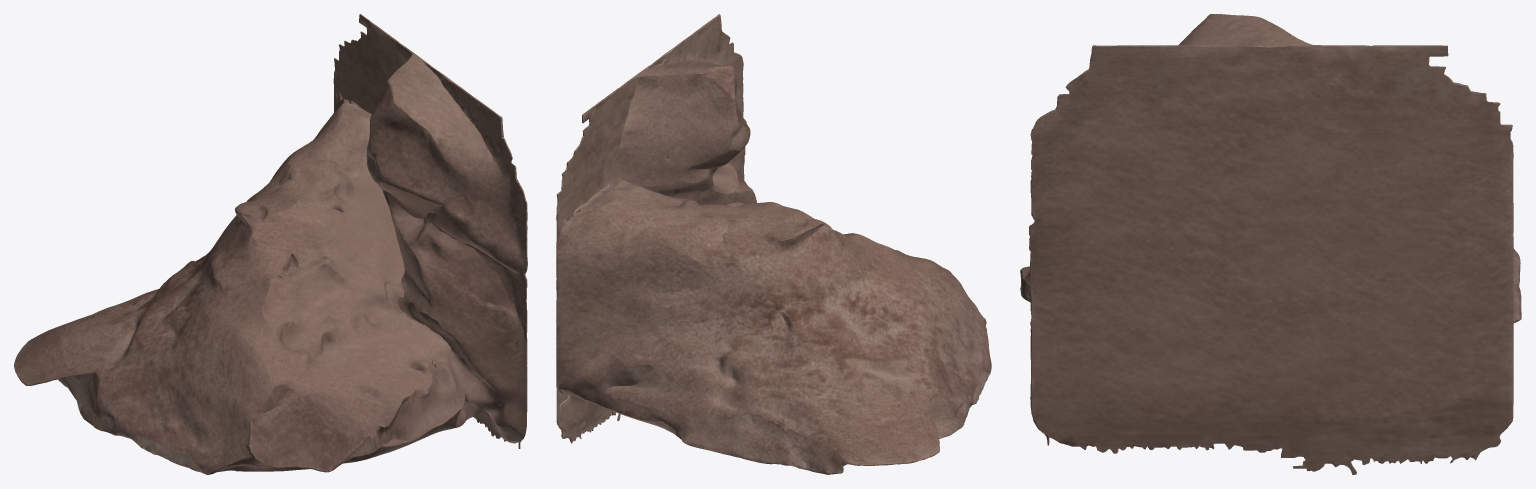
The picture shows the model from 3 angles, left to right: view 1: azimuth 30°, elevation 25°; view 2: azimuth 150°, elevation 25°; view 3: azimuth 270°, elevation 25°; orthographic projection. The views are drawn at different scales.
Visible parts, largest first — view 1: world; view 2: world; view 3: world.
Boxes of the visible parts, <box> form: world: <box>14,14,527,474</box>; world: <box>556,14,991,474</box>; world: <box>1020,14,1521,474</box>.
Bounding box in the file's own units: 0.35 × 0.3245 × 0.3438.
Materials: 1 (1 with a texture image).
